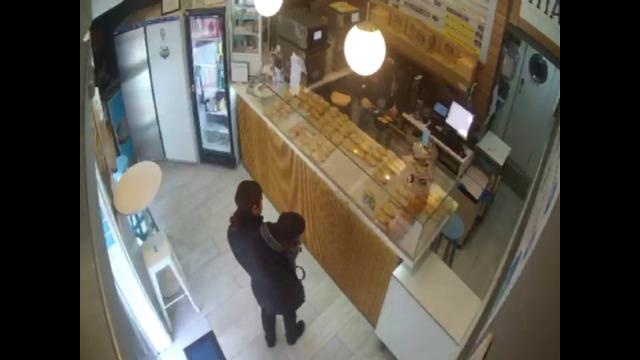cliente: (226, 178, 307, 349)
empleado: (348, 56, 408, 136)
